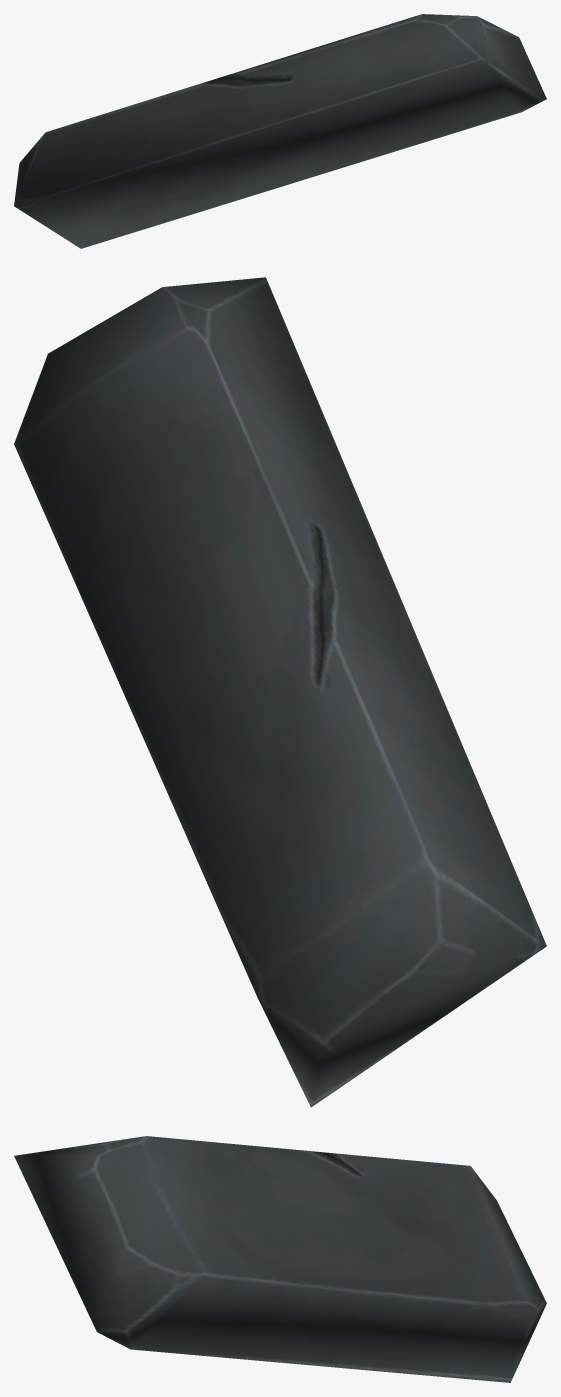
File: ingot01.glb
The picture shows the model from 3 angles, top to bottom: view 1: azimuth 30°, elevation 25°; view 2: azimuth 150°, elevation 25°; view 3: azimuth 270°, elevation 25°; orthographic projection. The views are drawn at different scales.
Parts seen in each view (by area): view 1: ingot01; view 2: ingot01; view 3: ingot01.
Part boxes in pixels (left/top/right/bottom): ingot01: left=14, top=14, right=546, bottom=248; ingot01: left=14, top=277, right=546, bottom=1107; ingot01: left=14, top=1136, right=546, bottom=1382.
Bounding box in the file's own units: 0.2196 × 0.148 × 0.1881.
Materials: 1 (1 with a texture image).
